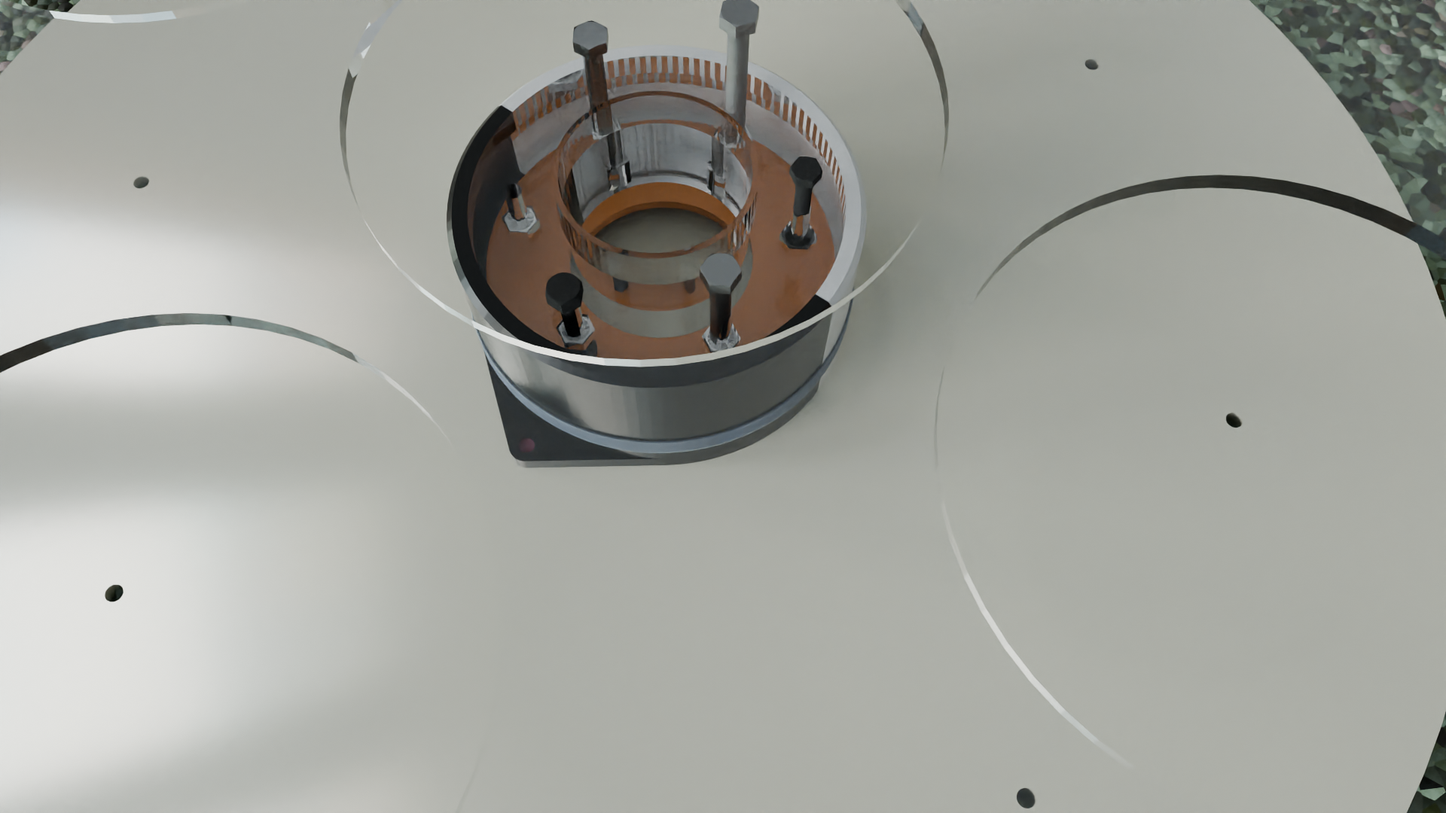bolt: (700, 253, 742, 287), (545, 273, 581, 306), (719, 0, 759, 27), (572, 20, 608, 50), (790, 157, 822, 181)
